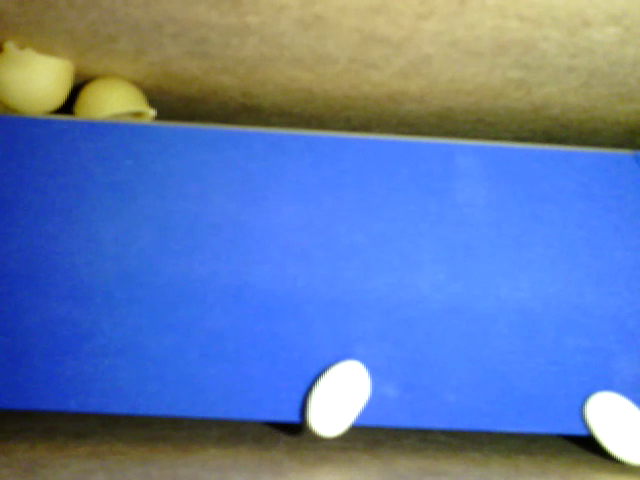shell: (1, 34, 80, 118), (73, 68, 155, 124)
